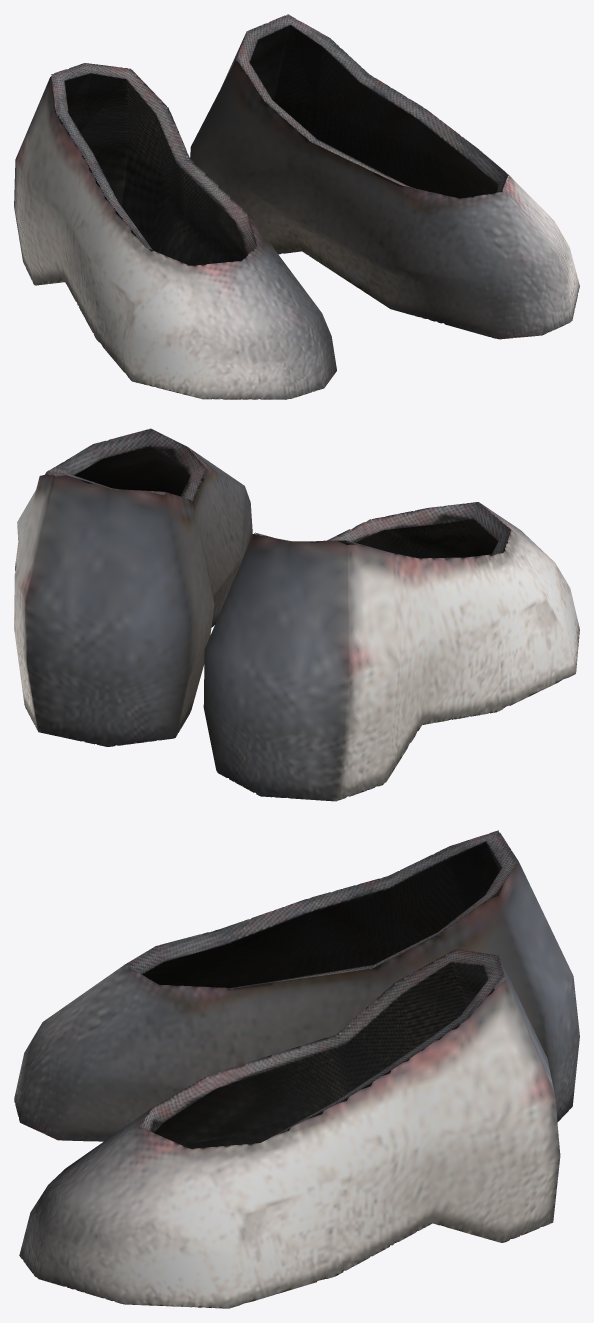
Rendered from W_Nurse_Shoes.fbx.
3 renders of one model, top to bottom at view 1: azimuth 30°, elevation 25°; view 2: azimuth 150°, elevation 25°; view 3: azimuth 270°, elevation 25°, orthographic. The views are drawn at different scales.
Visible parts, largest first — view 1: Object001; view 2: Object001; view 3: Object001.
Part boxes in pixels (box(x1,y1,x2,y2)): Object001: box(14, 14, 579, 399); Object001: box(14, 428, 579, 801); Object001: box(14, 830, 579, 1308).
Bounding box in the file's own units: 18.49 × 8.17 × 16.56.
